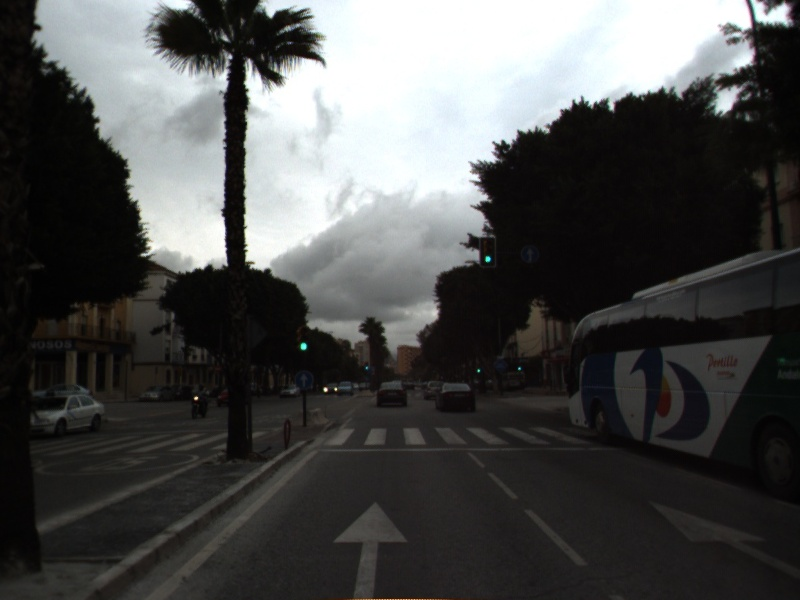STRAIGHT: (643, 496, 800, 579), (329, 497, 411, 600)
